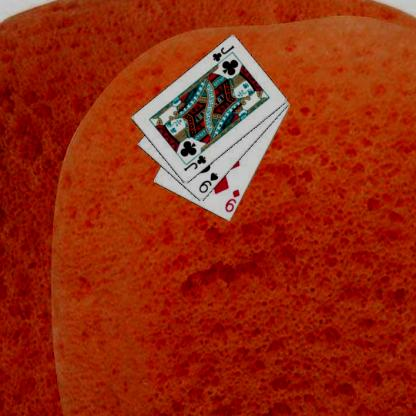9D: (222, 187, 241, 214)
9S: (196, 170, 220, 194)
JC: (181, 153, 207, 173), (210, 43, 236, 63)
